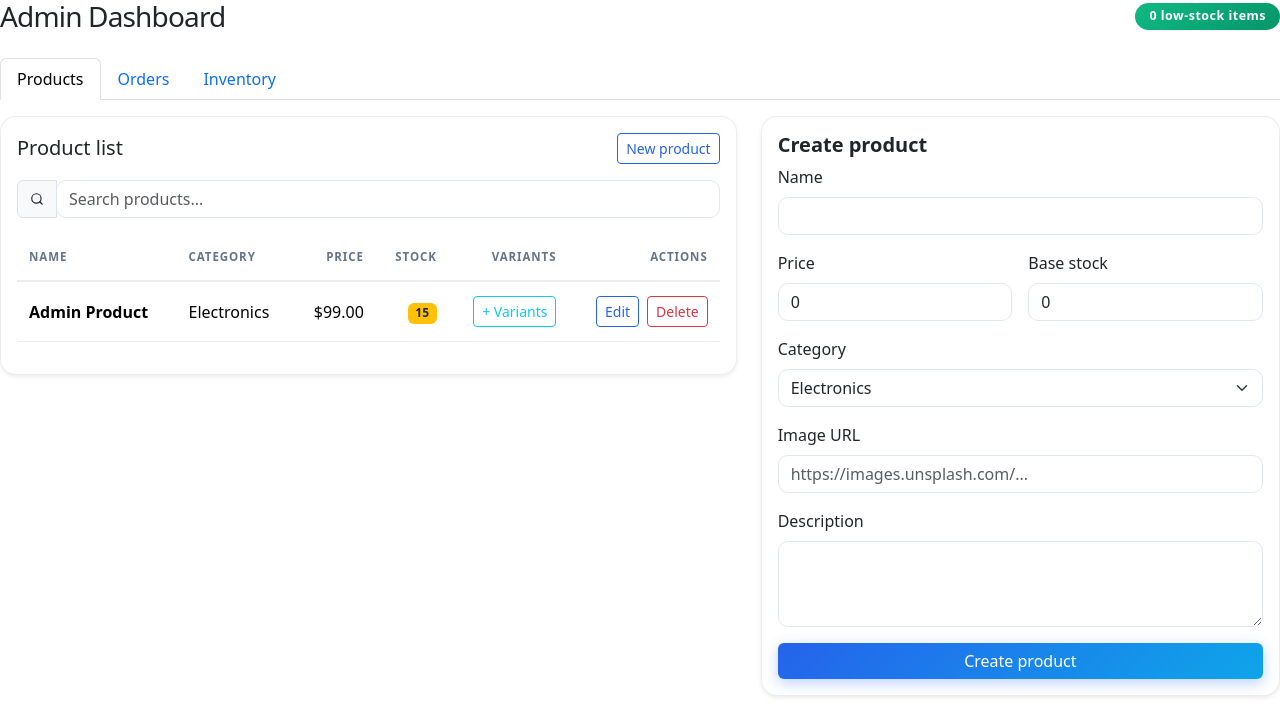
Test case: AdminDashboardPage › VariantManagerModal close button hides the modal
Click the button with aria-label "manage variants for admin product": (515, 312) [473, 296, 556, 327]
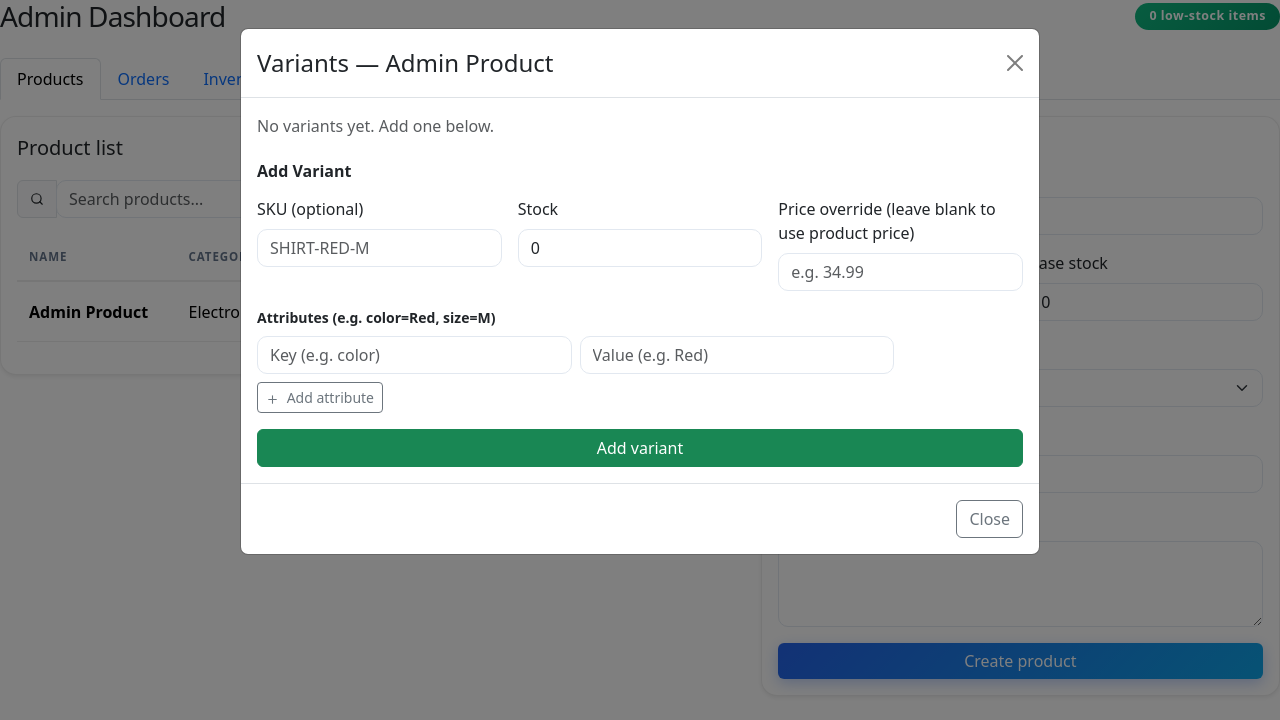
Expected: the text "No variants yet. Add one below." is shown, [257, 115, 494, 137]
Click the button "Close": (990, 519) [956, 500, 1023, 538]
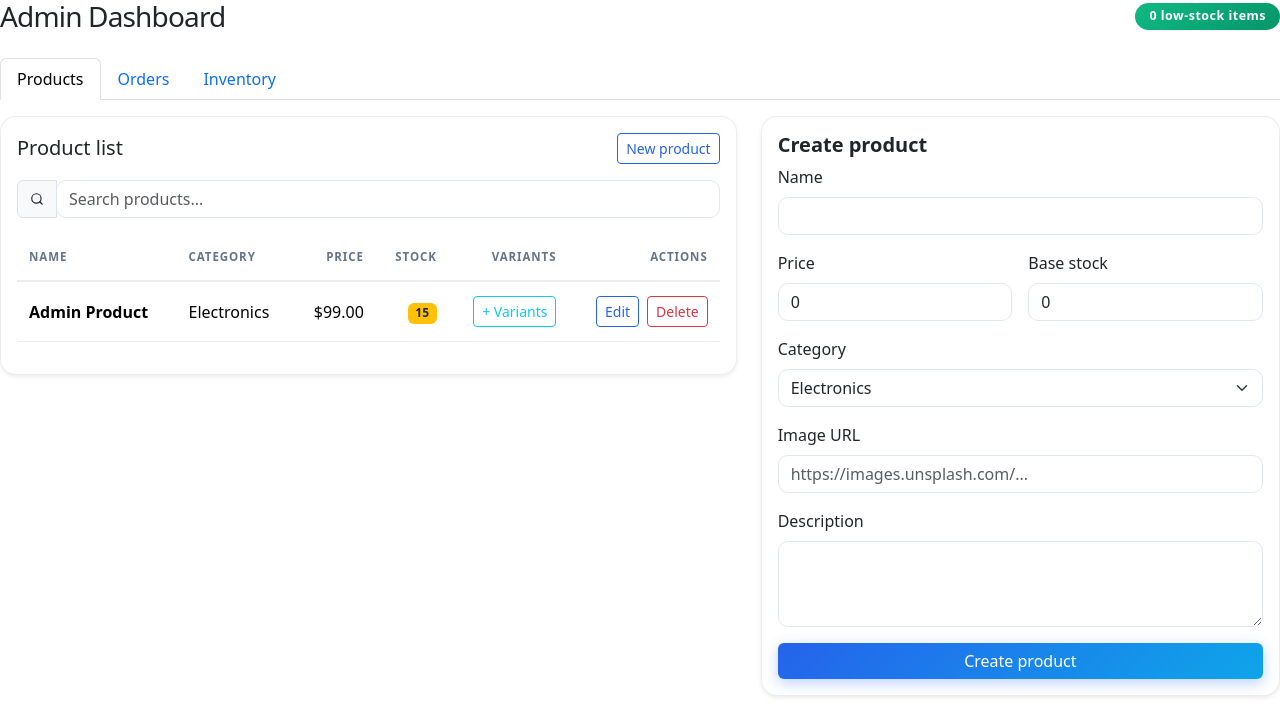
Expected: the text "Variants — Admin Product" is gone
